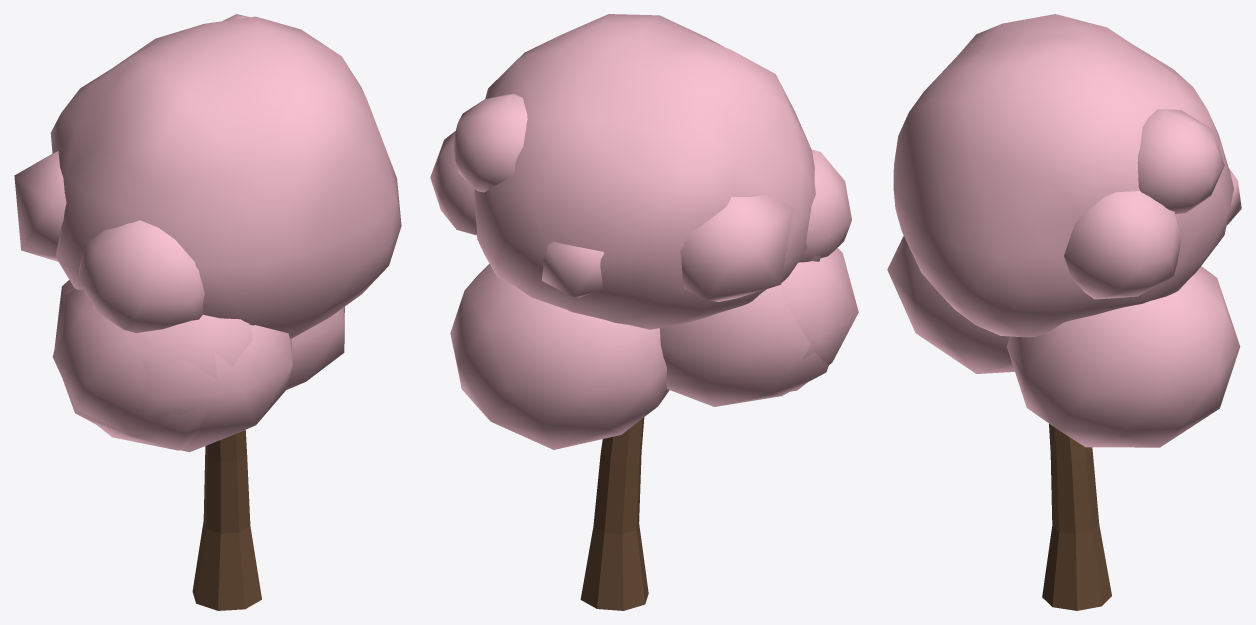
Rendered from tree_blossom_1.glb.
3 views of the same model, side by side, from view 1: azimuth 30°, elevation 25°; view 2: azimuth 150°, elevation 25°; view 3: azimuth 270°, elevation 25° (orthographic). The views are drawn at different scales.
Parts seen in each view (by area): view 1: tree_blossom_1; view 2: tree_blossom_1; view 3: tree_blossom_1.
Part boxes in pixels (left/top/right/bottom): tree_blossom_1: left=14, top=14, right=401, bottom=610; tree_blossom_1: left=430, top=14, right=858, bottom=610; tree_blossom_1: left=887, top=14, right=1241, bottom=610.
Size of the model in its own units: 3.65 by 5.68 by 3.28.
